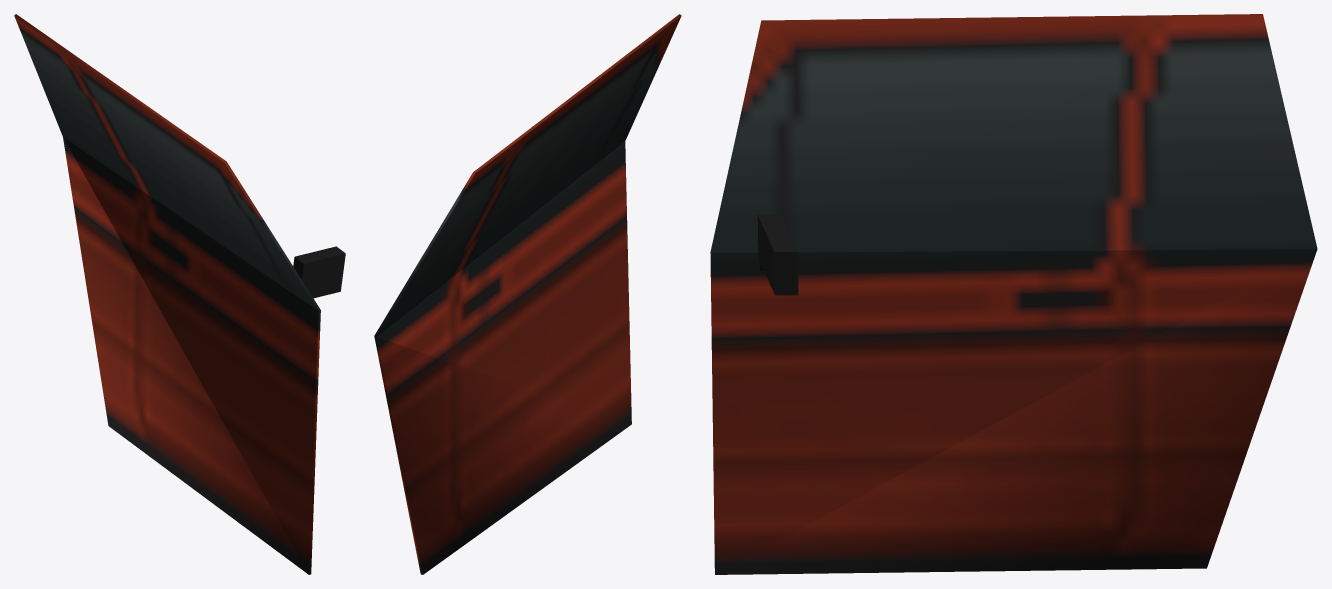
Rendered from car_cricket_red_door_FL.obj.
The picture shows the model from 3 angles, left to right: view 1: azimuth 30°, elevation 25°; view 2: azimuth 150°, elevation 25°; view 3: azimuth 270°, elevation 25°; orthographic projection. The views are drawn at different scales.
Visible parts, largest first — view 1: Car3.002; view 2: Car3.002; view 3: Car3.002.
Part boxes in pixels (x1=…): Car3.002: x1=14, y1=14, x2=345, y2=574; Car3.002: x1=374, y1=14, x2=681, y2=574; Car3.002: x1=710, y1=14, x2=1317, y2=574.
Size of the model in its own units: 0.6 by 1.78 by 1.89.
